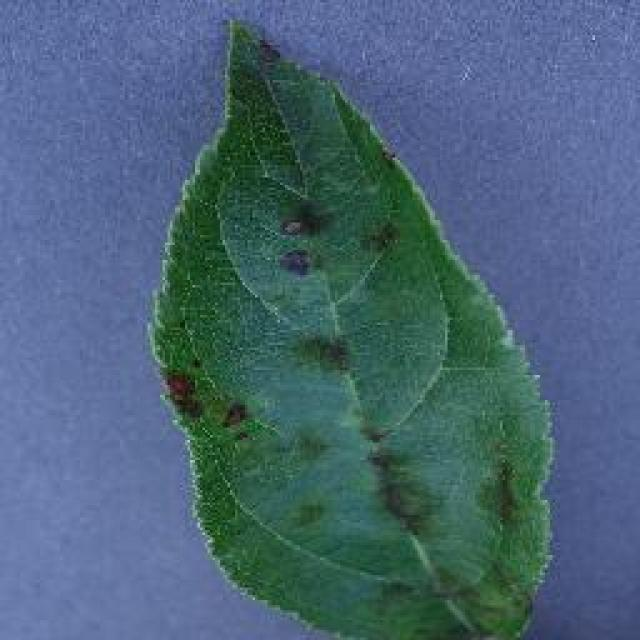apple scab disease: (145, 15, 557, 637)
